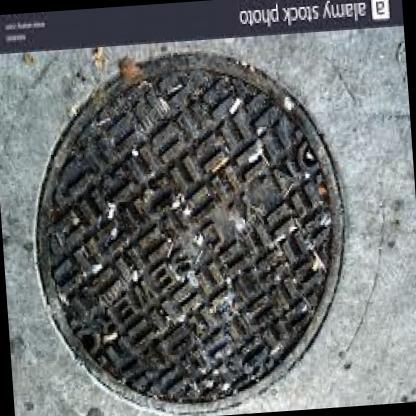manholes: (7, 40, 355, 416)
